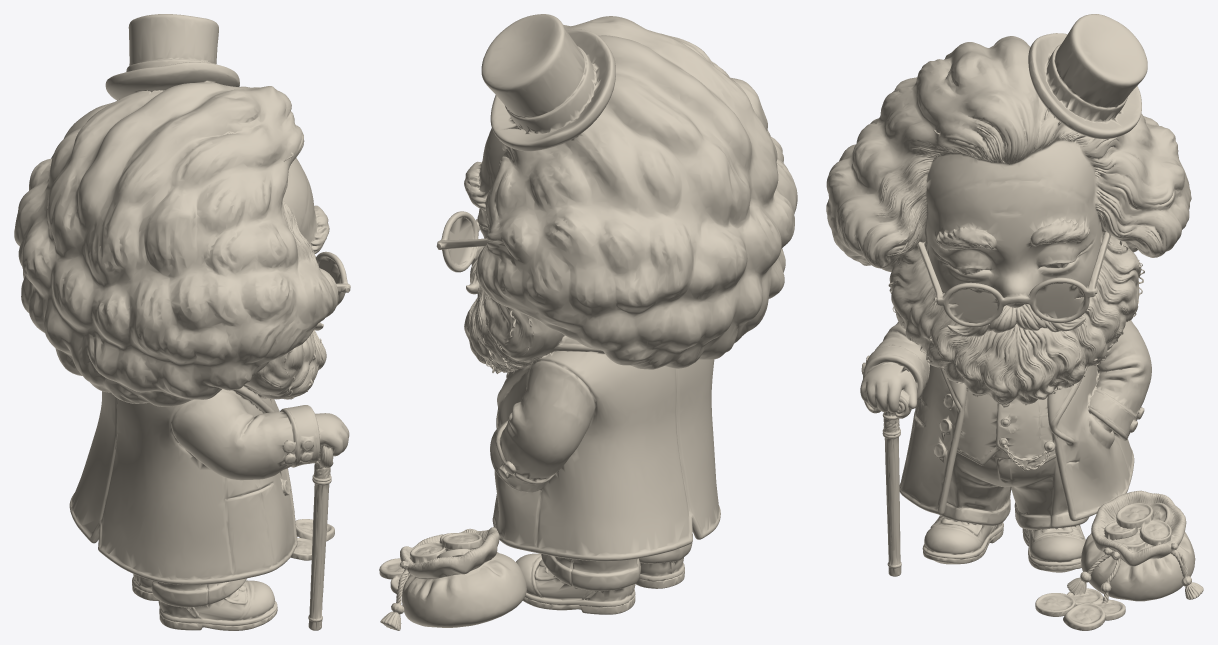
The model's file is marxito.glb.
The picture shows the model from 3 angles, left to right: view 1: azimuth 30°, elevation 25°; view 2: azimuth 150°, elevation 25°; view 3: azimuth 270°, elevation 25°; orthographic projection. The views are drawn at different scales.
Parts seen in each view (by area): view 1: MARXITO_v01; view 2: MARXITO_v01; view 3: MARXITO_v01.
Part boxes in pixels (x1,y1,x2,y2): MARXITO_v01: (14, 14, 350, 630); MARXITO_v01: (379, 14, 797, 630); MARXITO_v01: (826, 14, 1203, 630).
Size of the model in its own units: 1.09 by 1.8 by 1.15.
